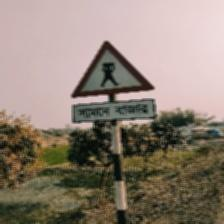Market-in-front: (70, 40, 157, 124)
